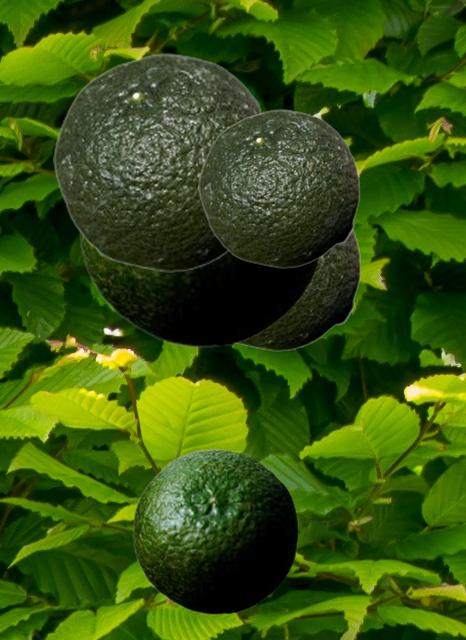calamansi: (53, 53, 264, 271), (78, 231, 322, 347), (132, 448, 297, 614), (198, 109, 359, 267), (234, 229, 360, 350)
